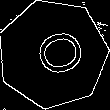O_W: (22, 26, 84, 82)
